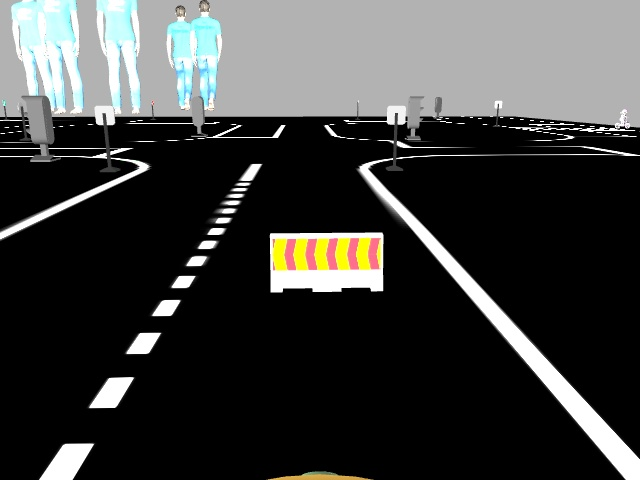ClosedRoadStand: (270, 234, 382, 288)
